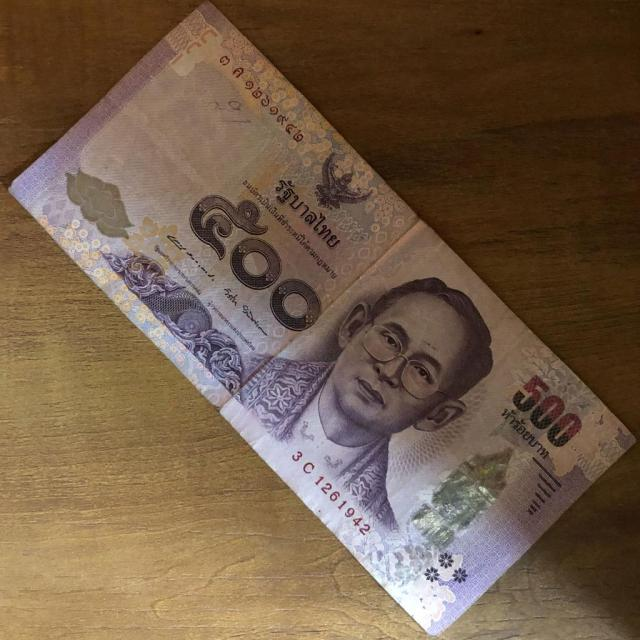THAI500: (11, 5, 634, 634)
